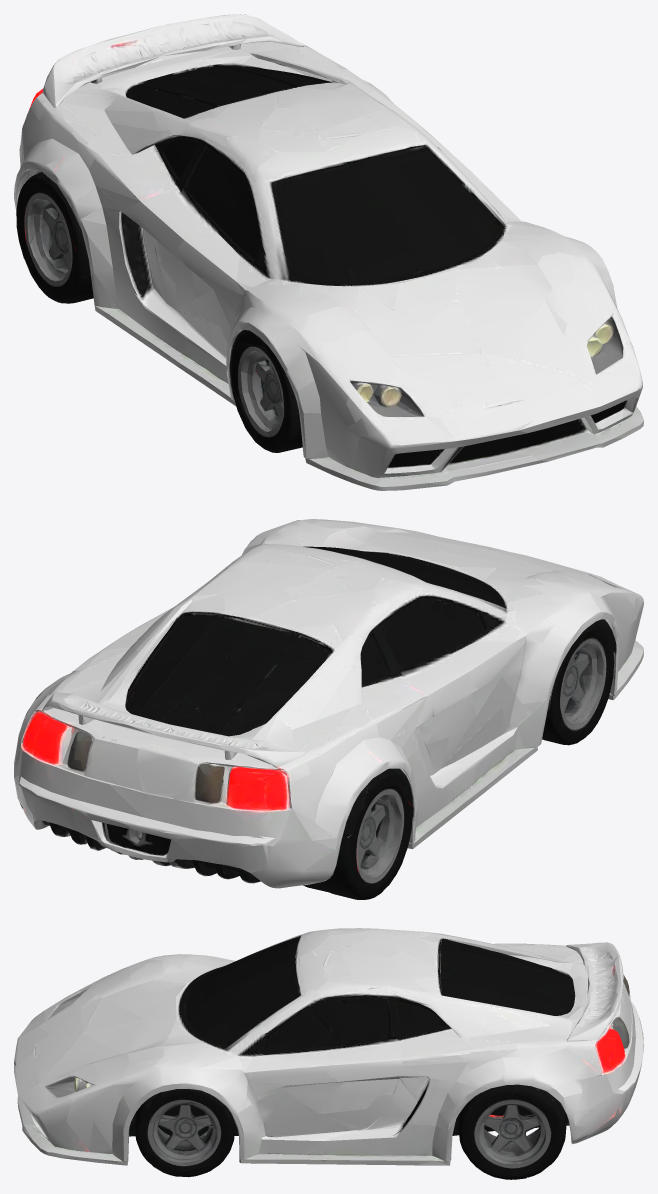
Rendered from cuneo.glb.
3 views of the same model, one above another, from view 1: azimuth 30°, elevation 25°; view 2: azimuth 150°, elevation 25°; view 3: azimuth 270°, elevation 25° (orthographic). The views are drawn at different scales.
Visible parts, largest first — view 1: cuneo; view 2: cuneo; view 3: cuneo.
Boxes of the visible parts, x1,y1,x2,y2 form: cuneo: [14, 14, 643, 490]; cuneo: [14, 519, 643, 899]; cuneo: [14, 928, 643, 1179].
Size of the model in its own units: 2.18 by 1.29 by 4.5.
Materials: 1 (1 with a texture image).
